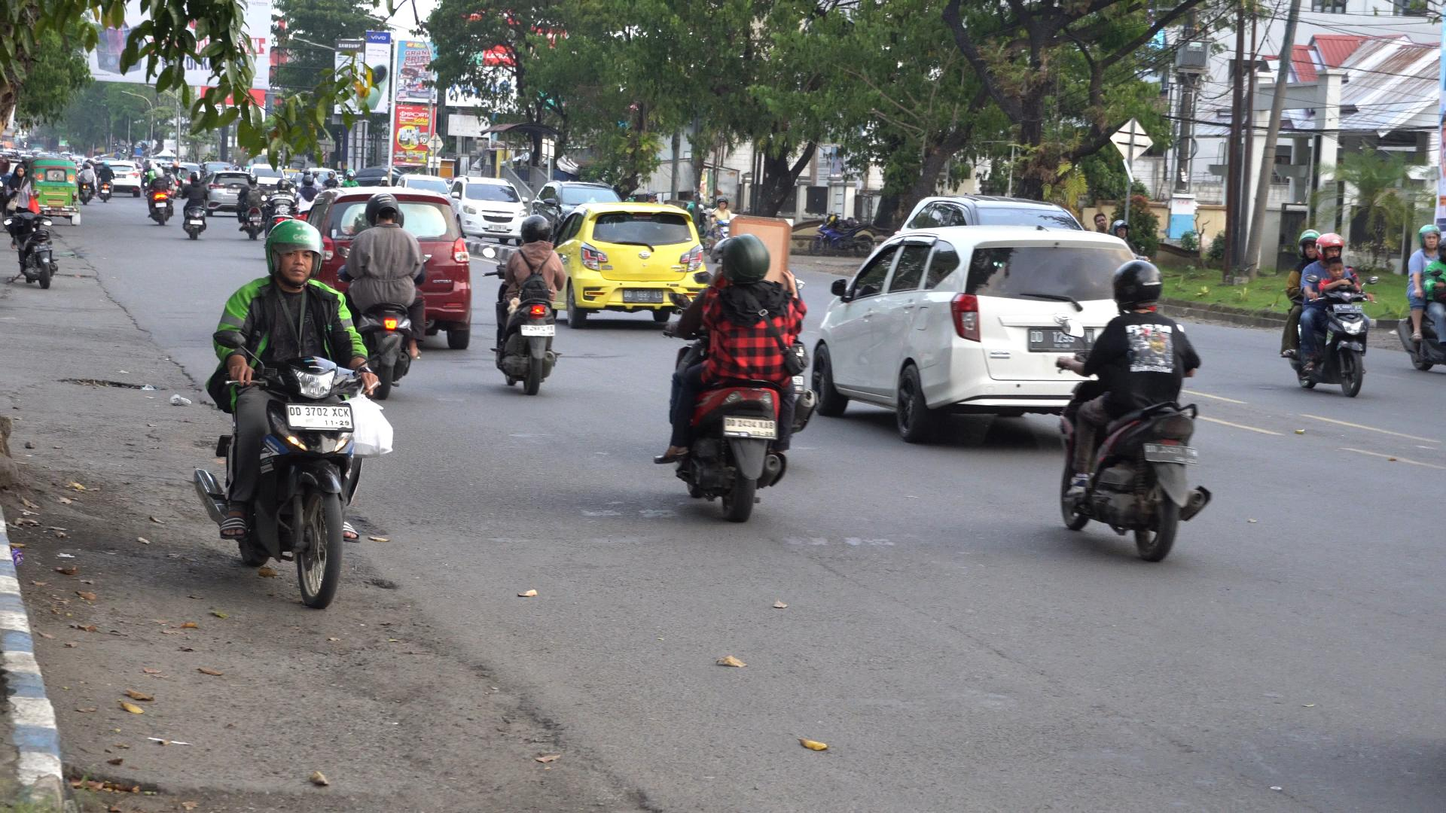number-plate: (285, 399, 355, 440)
